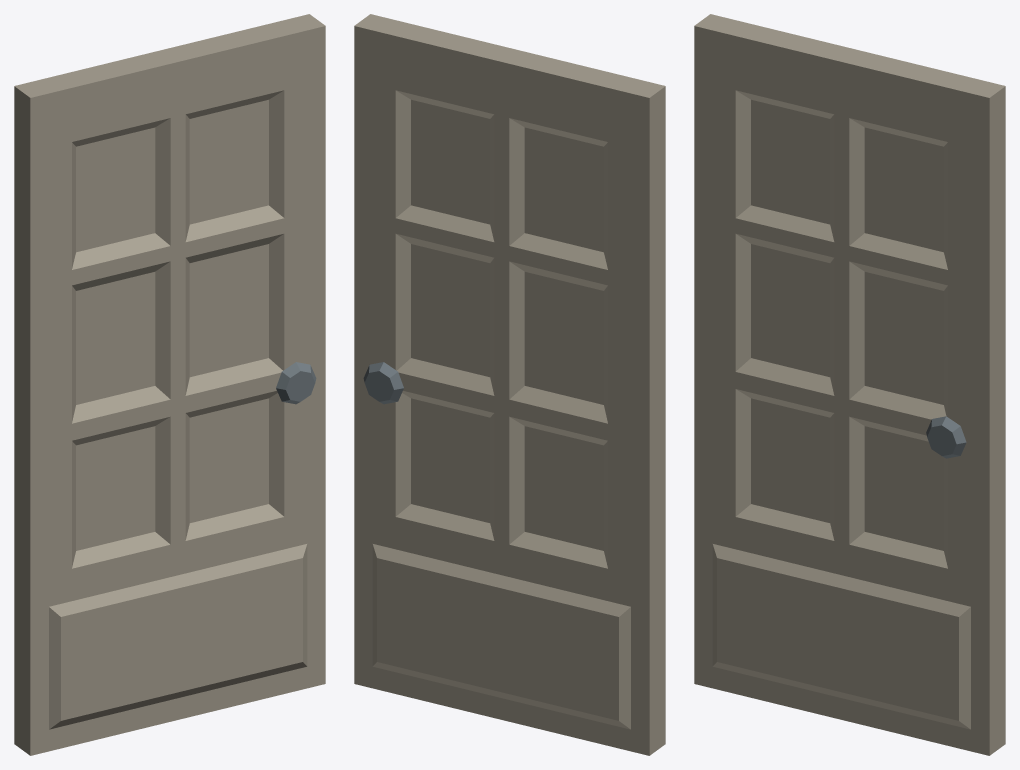
File: SM_Bld_House_Door.obj
The picture shows the model from 3 angles, left to right: view 1: azimuth 30°, elevation 25°; view 2: azimuth 150°, elevation 25°; view 3: azimuth 330°, elevation 25°; orthographic projection.
Parts seen in each view (by area): view 1: SM_Bld_House_Door_0; view 2: SM_Bld_House_Door_0; view 3: SM_Bld_House_Door_0.
Part boxes in pixels (<box>): SM_Bld_House_Door_0: <box>14,14,325,755</box>; SM_Bld_House_Door_0: <box>354,14,665,755</box>; SM_Bld_House_Door_0: <box>694,14,1005,755</box>.
Size of the model in its own units: 1.04 by 2.22 by 0.2375.
1 material, 1 textured.
